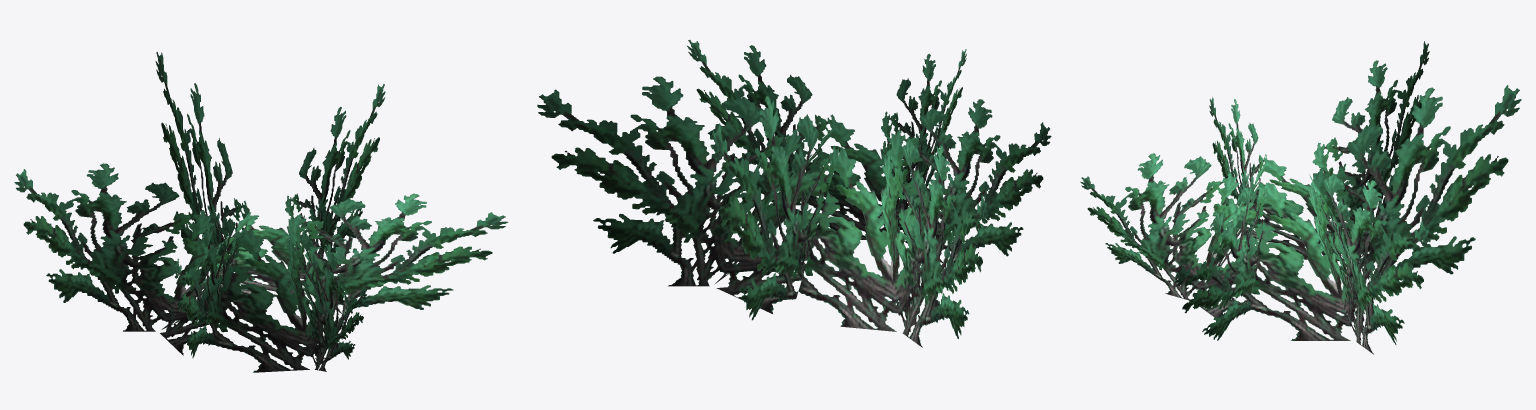
File: silverpinebush03.obj
3 views of the same model, side by side, from view 1: azimuth 30°, elevation 25°; view 2: azimuth 150°, elevation 25°; view 3: azimuth 270°, elevation 25° (orthographic). The views are drawn at different scales.
Visible parts, largest first — view 1: SILVERPINEBUSH030; view 2: SILVERPINEBUSH030; view 3: SILVERPINEBUSH030.
Part boxes in pixels (<box>): SILVERPINEBUSH030: <box>14,52,508,372</box>; SILVERPINEBUSH030: <box>537,40,1051,347</box>; SILVERPINEBUSH030: <box>1080,41,1521,354</box>.
Bounding box in the file's own units: 5.4 × 3.34 × 5.33.
1 material, 1 textured.
